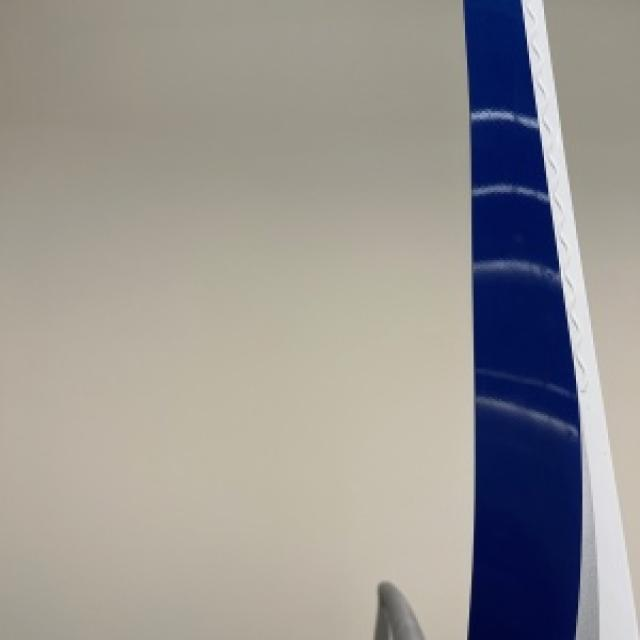healthy: (0, 0, 471, 638), (371, 582, 422, 638)
